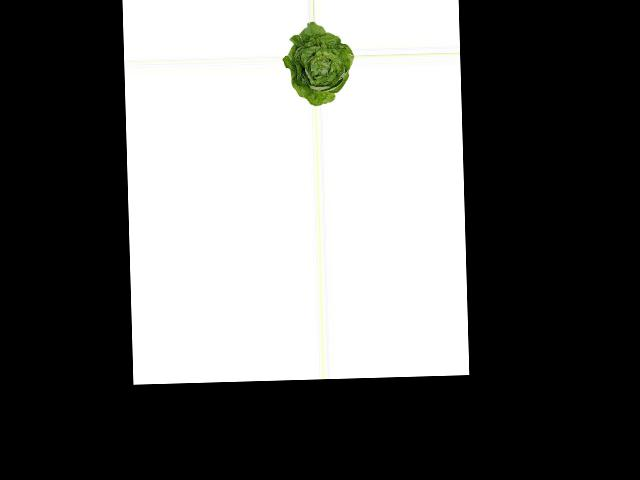lettuce: (281, 23, 354, 107)
